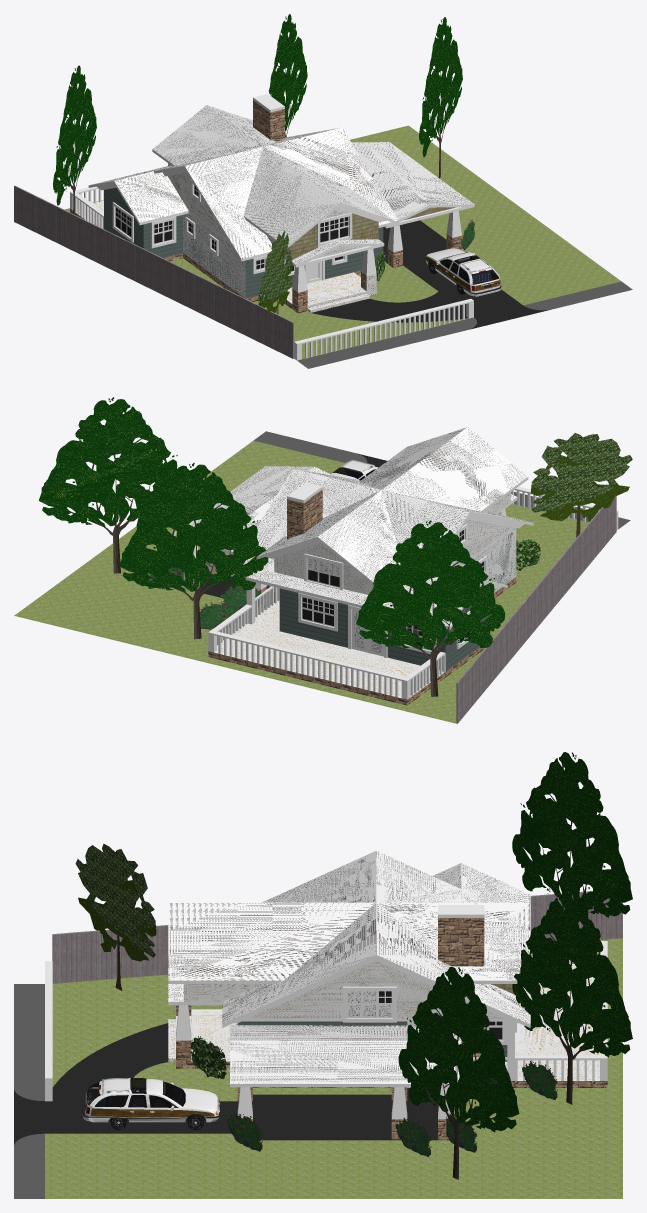
File: bunga.dae
3 renders of one model, top to bottom at view 1: azimuth 30°, elevation 25°; view 2: azimuth 150°, elevation 25°; view 3: azimuth 270°, elevation 25°, orthographic. The views are drawn at different scales.
Parts seen in each view (by area): view 1: Model, Tree_2D_Schematic_Juniper (×3), Group1, Tree_2D_Schematic_Generic_20_; view 2: Model, Tree_2D_Schematic_Juniper (×3), Tree_2D_Schematic_Generic_20_, Shrub_2D_Autumn_Sage (×2), Shrub_2D_Natal_Plum, Group1; view 3: Model, Tree_2D_Schematic_Juniper (×3), Tree_2D_Schematic_Generic_20_, Group1, Shrub_2D_Autumn_Sage (×4), Shrub_2D_Natal_Plum.
Part boxes in pixels (x1=…): Model: x1=14, y1=94, x2=632, y2=368; Tree_2D_Schematic_Juniper (×3): x1=53, y1=14, x2=462, y2=214; Group1: x1=425, y1=248, x2=501, y2=296; Tree_2D_Schematic_Generic_20_: x1=261, y1=231, x2=292, y2=314; Model: x1=14, y1=427, x2=630, y2=723; Tree_2D_Schematic_Juniper (×3): x1=38, y1=397, x2=504, y2=696; Tree_2D_Schematic_Generic_20_: x1=530, y1=433, x2=632, y2=537; Shrub_2D_Autumn_Sage (×2): x1=199, y1=585, x2=264, y2=629; Shrub_2D_Natal_Plum: x1=516, y1=539, x2=540, y2=570; Group1: x1=331, y1=459, x2=378, y2=480; Model: x1=14, y1=850, x2=622, y2=1198; Tree_2D_Schematic_Juniper (×3): x1=398, y1=752, x2=632, y2=1179; Tree_2D_Schematic_Generic_20_: x1=75, y1=843, x2=156, y2=990; Group1: x1=82, y1=1078, x2=220, y2=1122; Shrub_2D_Autumn_Sage (×4): x1=227, y1=1061, x2=557, y2=1156; Shrub_2D_Natal_Plum: x1=190, y1=1036, x2=226, y2=1079.
Size of the model in its own units: 1006 by 963 by 367.
Materials: 44 (19 with a texture image).
